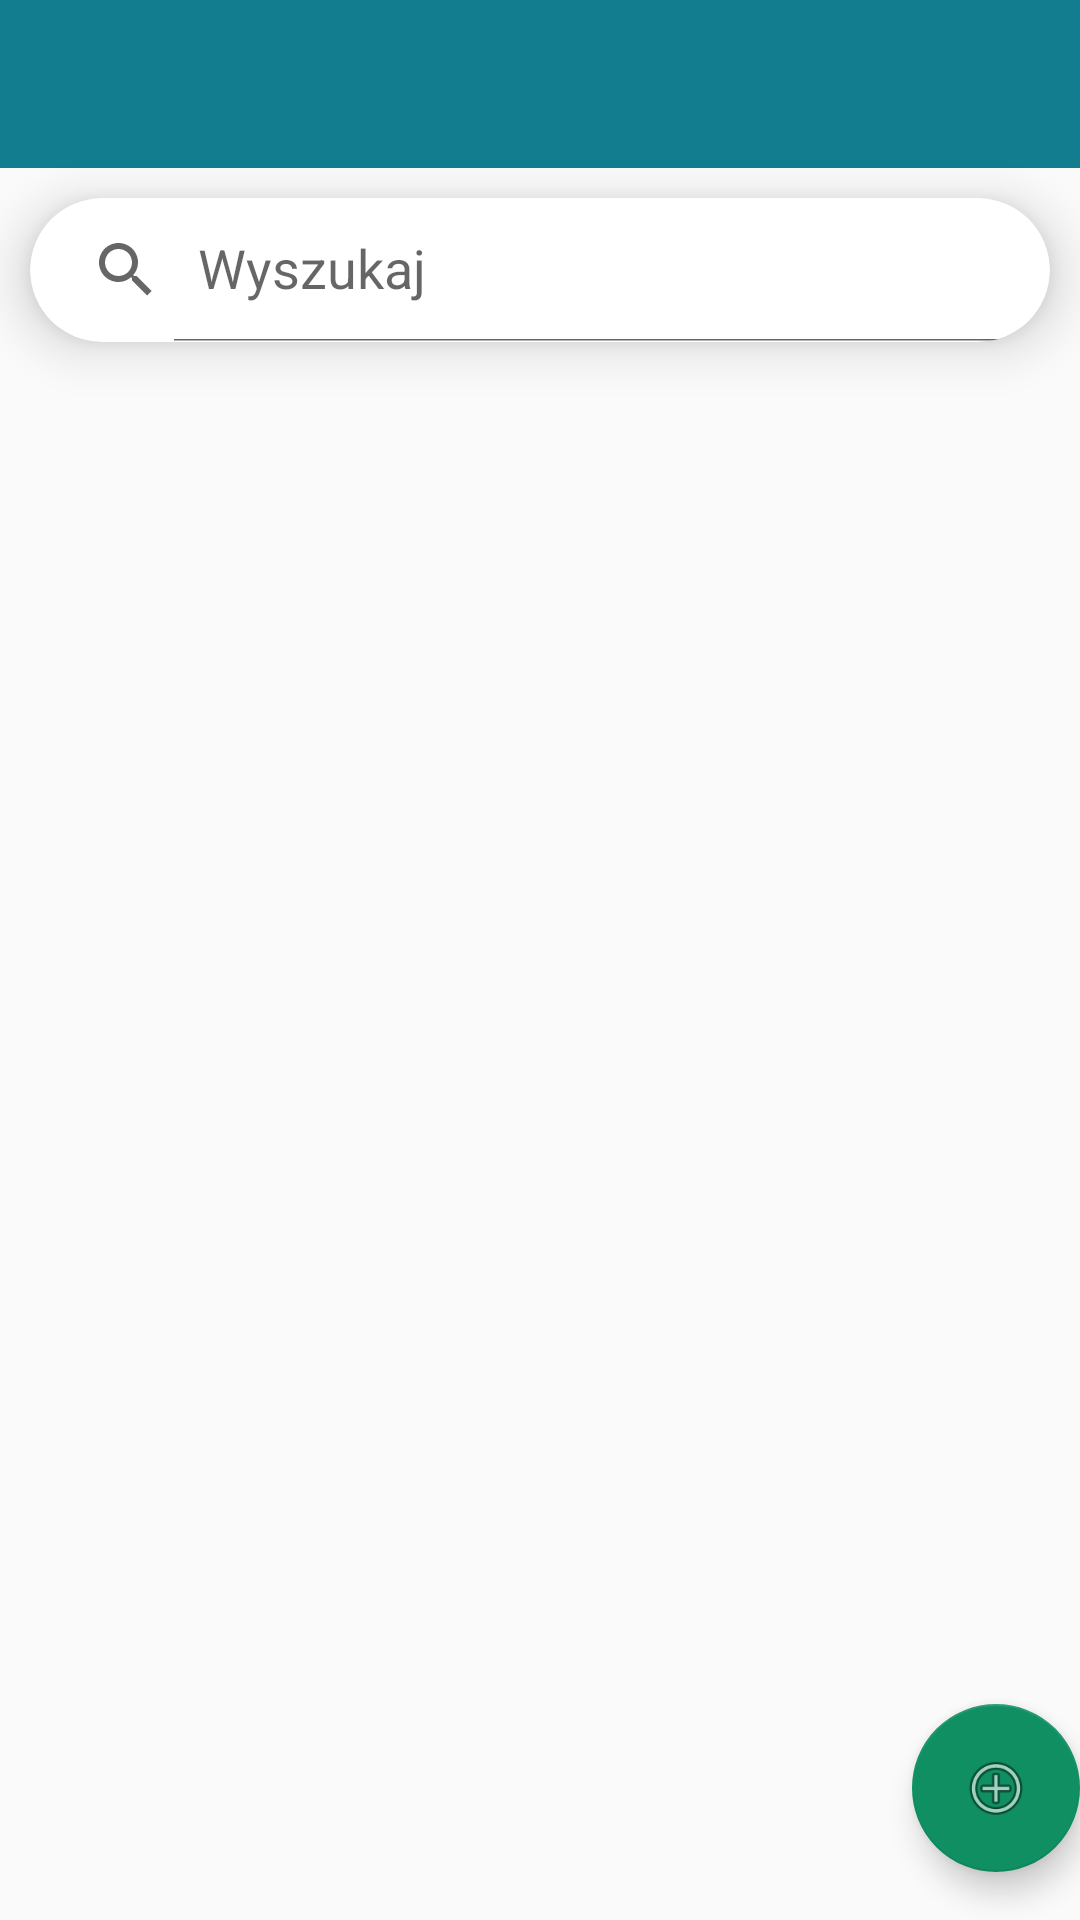

Icons on this 1080w x 1920h Android screen, each with the point to tap as point (x, y):
add: point (996, 1788)
